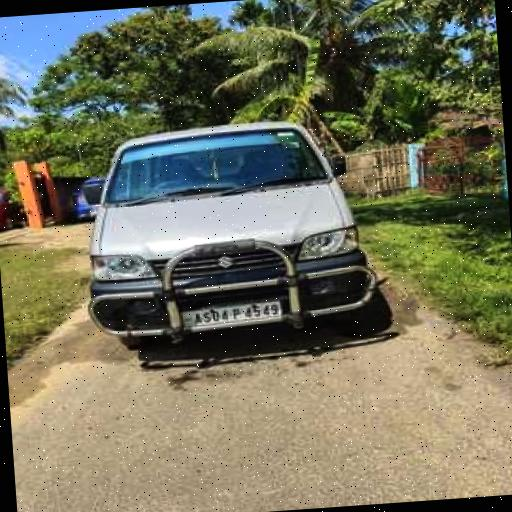license_plate`: (180, 300, 282, 326)
